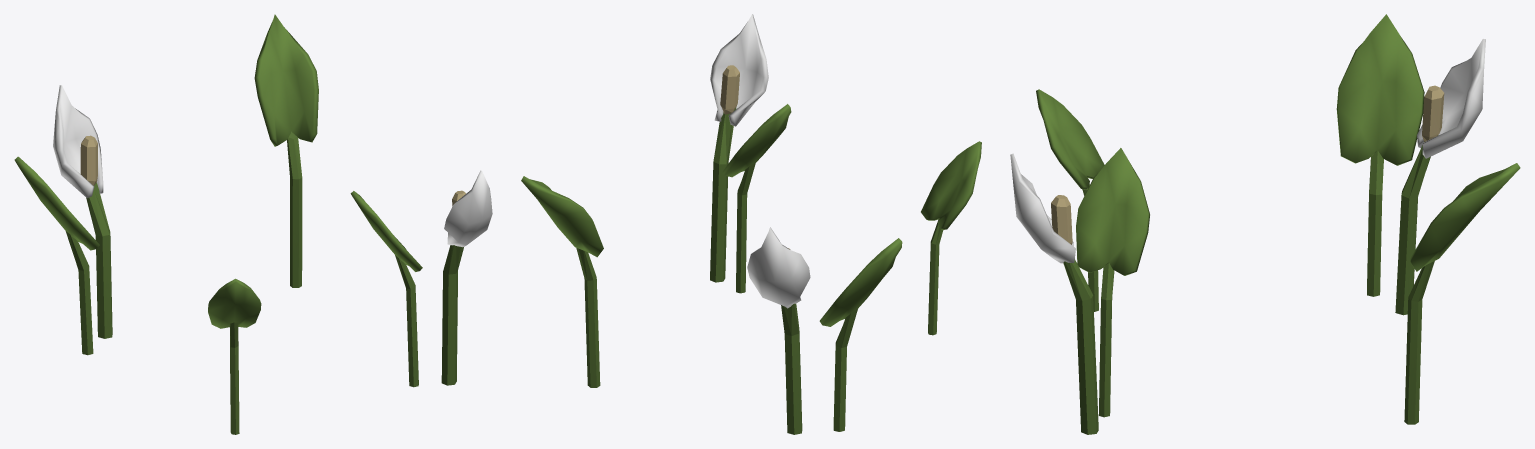
Rendered from Suovehka_pieni.fbx.
3 views of the same model, side by side, from view 1: azimuth 30°, elevation 25°; view 2: azimuth 150°, elevation 25°; view 3: azimuth 270°, elevation 25° (orthographic). The views are drawn at different scales.
Parts seen in each view (by area): view 1: Suovehka_pieni; view 2: Suovehka_pieni; view 3: Suovehka_pieni.
Boxes of the visible parts, <box> form: Suovehka_pieni: <box>14,14,492,434</box>; Suovehka_pieni: <box>521,14,981,434</box>; Suovehka_pieni: <box>1010,14,1520,434</box>.
Bounding box in the file's own units: 1.5 × 0.8973 × 1.32.
